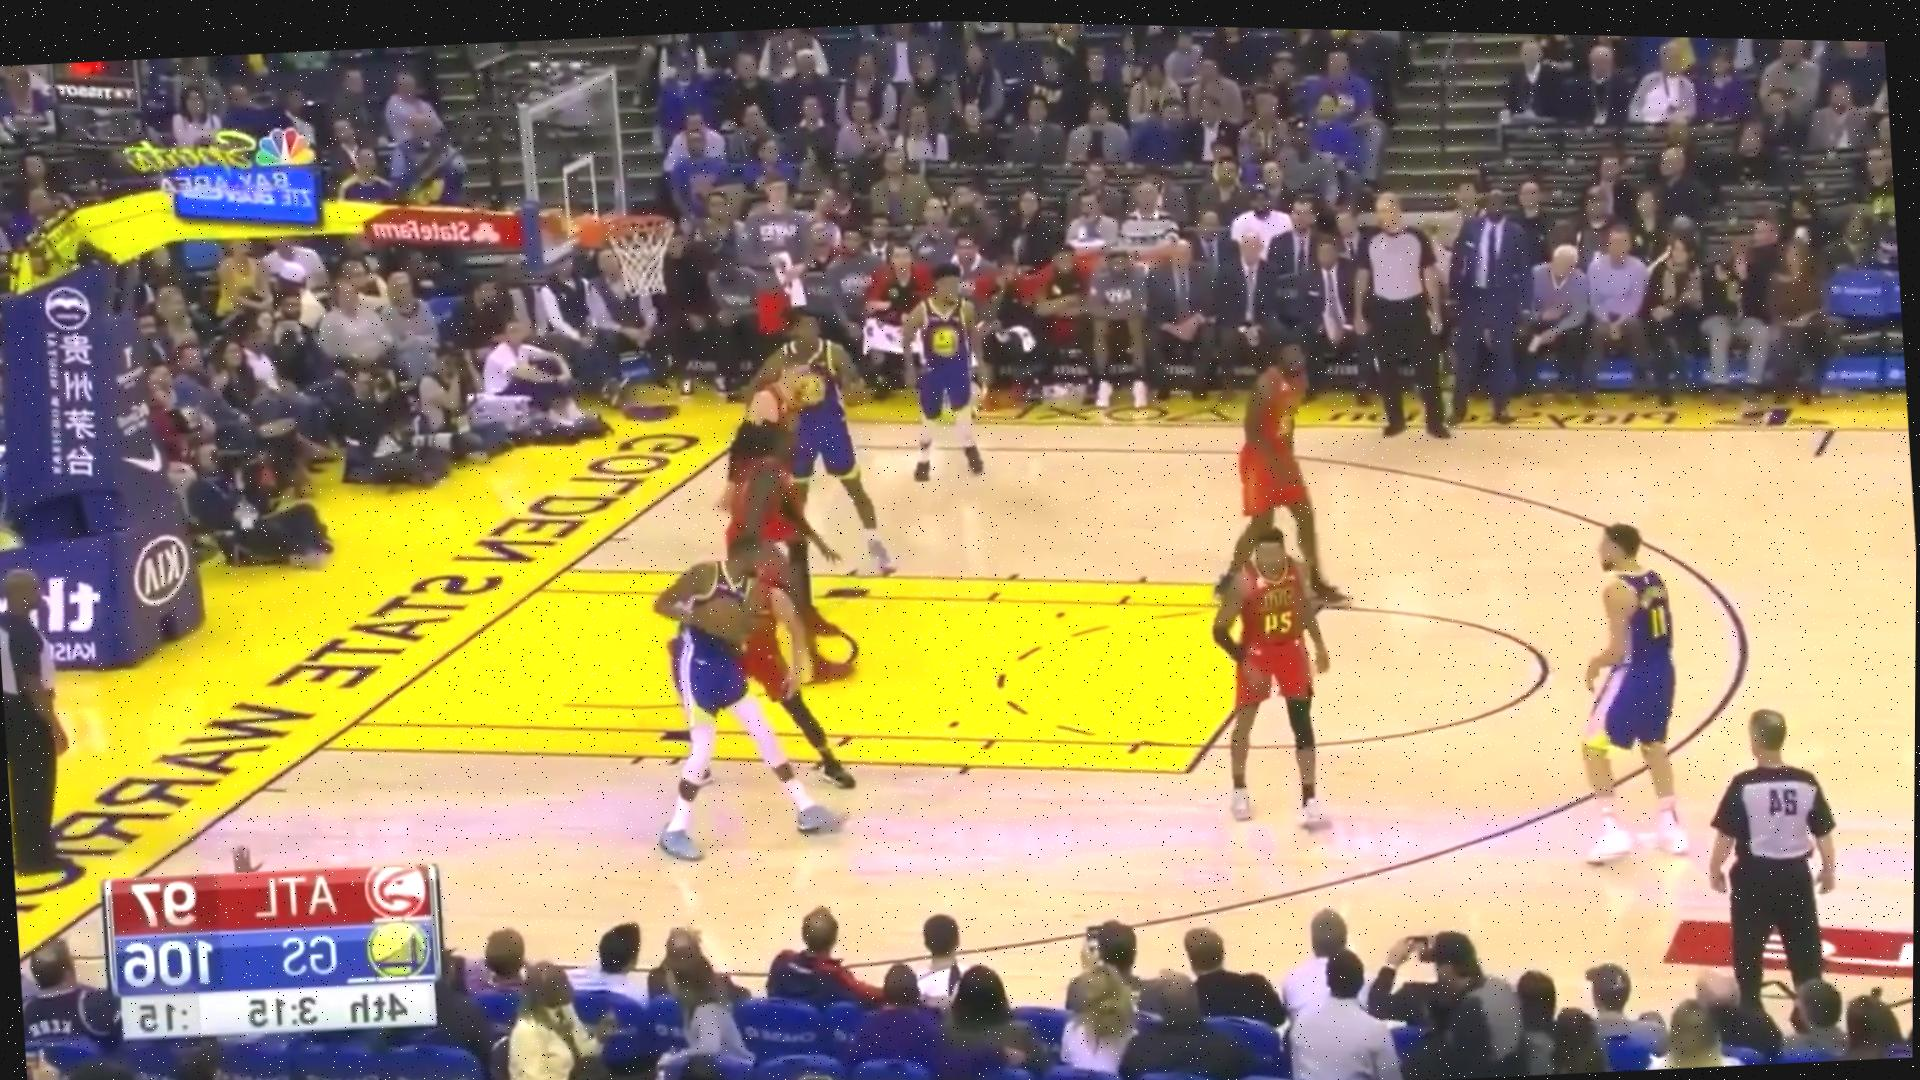no_foul: (603, 506, 878, 865)
